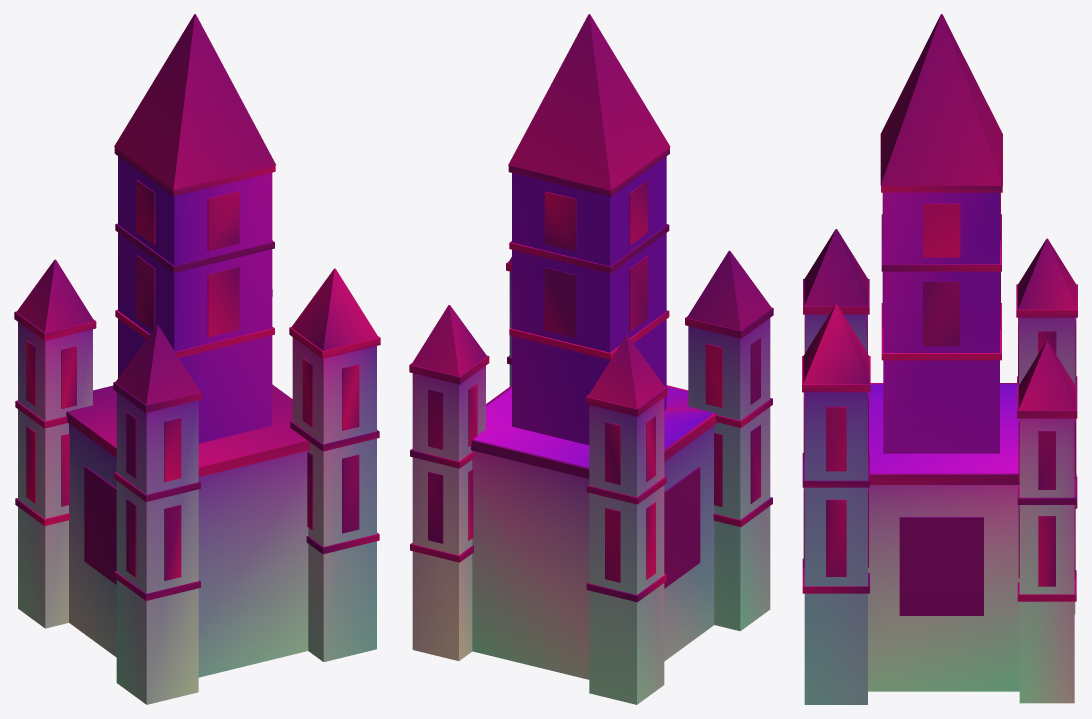
Rendered from radiant_castle_b.glb.
3 views of the same model, side by side, from view 1: azimuth 30°, elevation 25°; view 2: azimuth 150°, elevation 25°; view 3: azimuth 270°, elevation 25° (orthographic). The views are drawn at different scales.
Parts seen in each view (by area): view 1: radiant_castle, radiant_castle_win, radiant_castle_gild, radiant_cap, radiant_cap.003, radiant_cap.001, radiant_cap.002; view 2: radiant_castle, radiant_castle_win, radiant_cap, radiant_castle_gild, radiant_cap.001, radiant_cap.002, radiant_cap.004; view 3: radiant_castle, radiant_castle_win, radiant_cap, radiant_castle_gild, radiant_cap.003, radiant_cap.001, radiant_cap.002, radiant_cap.004.
Boxes of the visible parts, box(x1,y1,x2,y2) form: radiant_castle: box(18, 156, 376, 704); radiant_castle_win: box(26, 179, 359, 584); radiant_castle_gild: box(14, 147, 380, 600); radiant_cap: box(114, 14, 275, 189); radiant_cap.003: box(291, 268, 378, 350); radiant_cap.001: box(115, 325, 199, 405); radiant_cap.002: box(16, 259, 93, 332); radiant_castle: box(412, 156, 770, 704); radiant_castle_win: box(428, 180, 760, 588); radiant_cap: box(508, 14, 670, 190); radiant_castle_gild: box(409, 148, 773, 602); radiant_cap.001: box(687, 250, 771, 330); radiant_cap.002: box(588, 335, 665, 408); radiant_cap.004: box(411, 305, 486, 376); radiant_castle: box(804, 192, 1075, 704); radiant_castle_win: box(803, 192, 1076, 615); radiant_cap: box(880, 14, 1002, 185); radiant_castle_gild: box(802, 186, 1077, 601); radiant_cap.003: box(803, 304, 869, 384); radiant_cap.001: box(804, 229, 868, 306); radiant_cap.002: box(1017, 238, 1076, 309); radiant_cap.004: box(1018, 341, 1075, 410).
Size of the model in its own units: 17.65 by 44.23 by 17.48.
